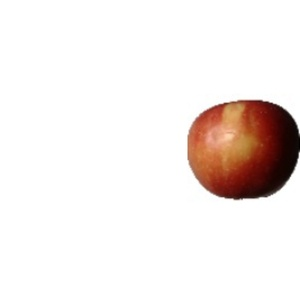maçã braeburn: (185, 96, 299, 203)
